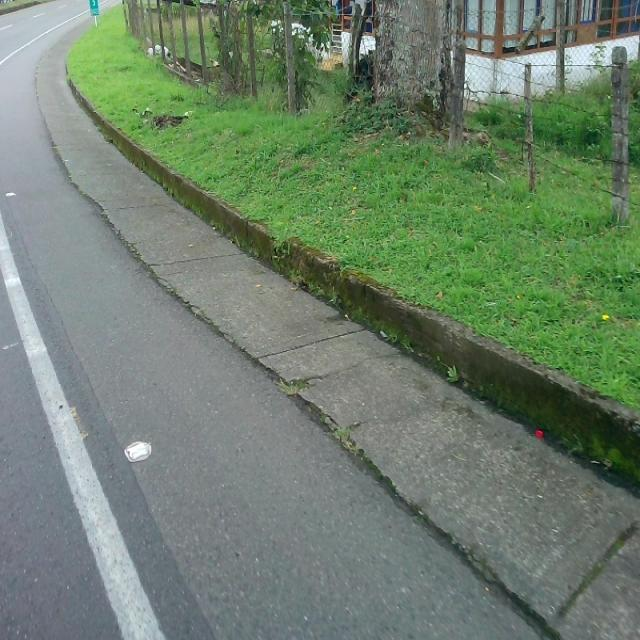DITCH: (34, 6, 638, 638), (1, 141, 639, 637)
